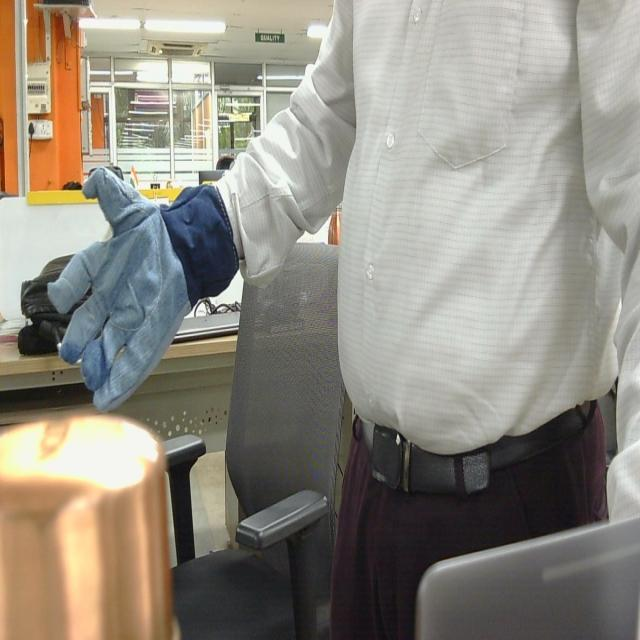Gloves-Detection: (43, 165, 241, 411)
